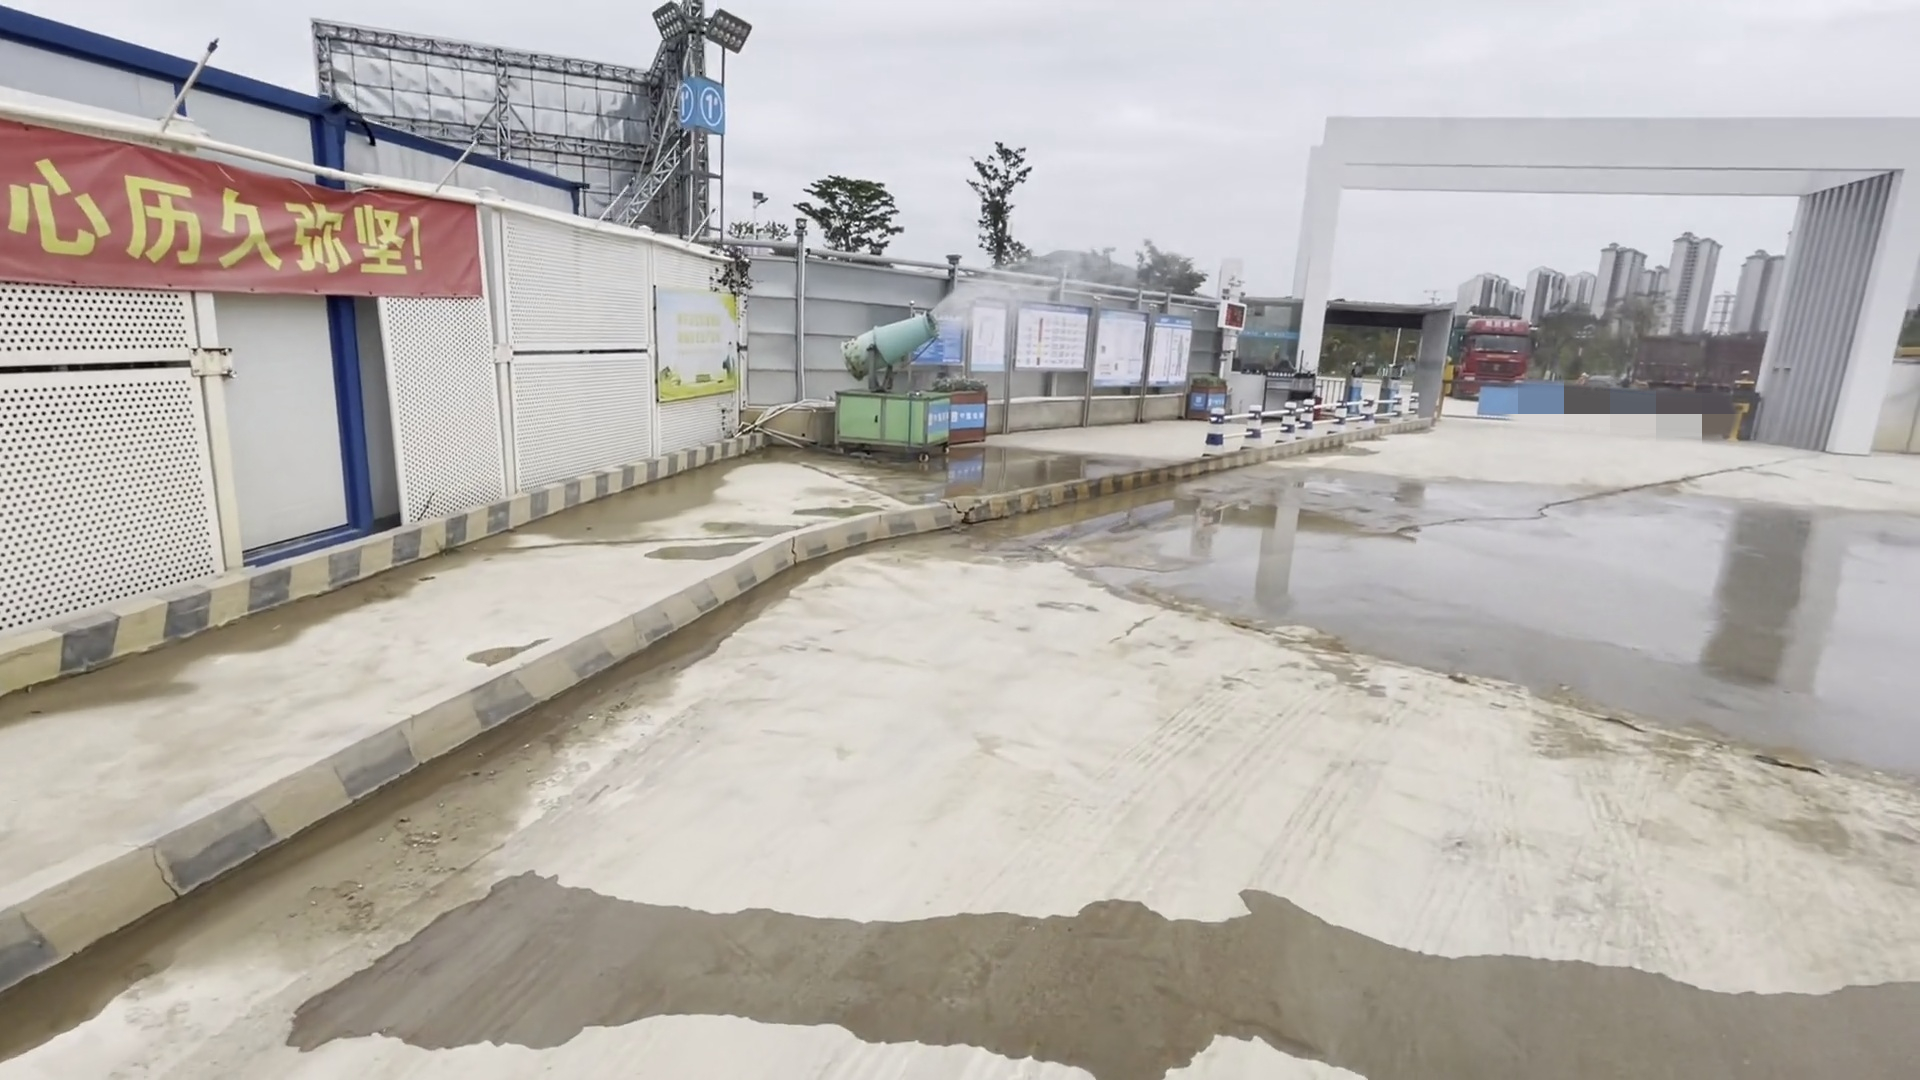slogan: (1, 128, 473, 301)
